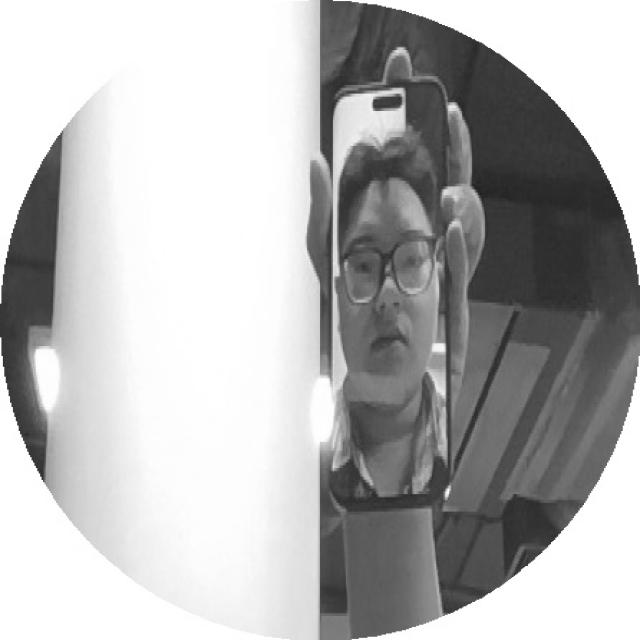fake: (315, 73, 477, 514), (320, 78, 470, 517)
